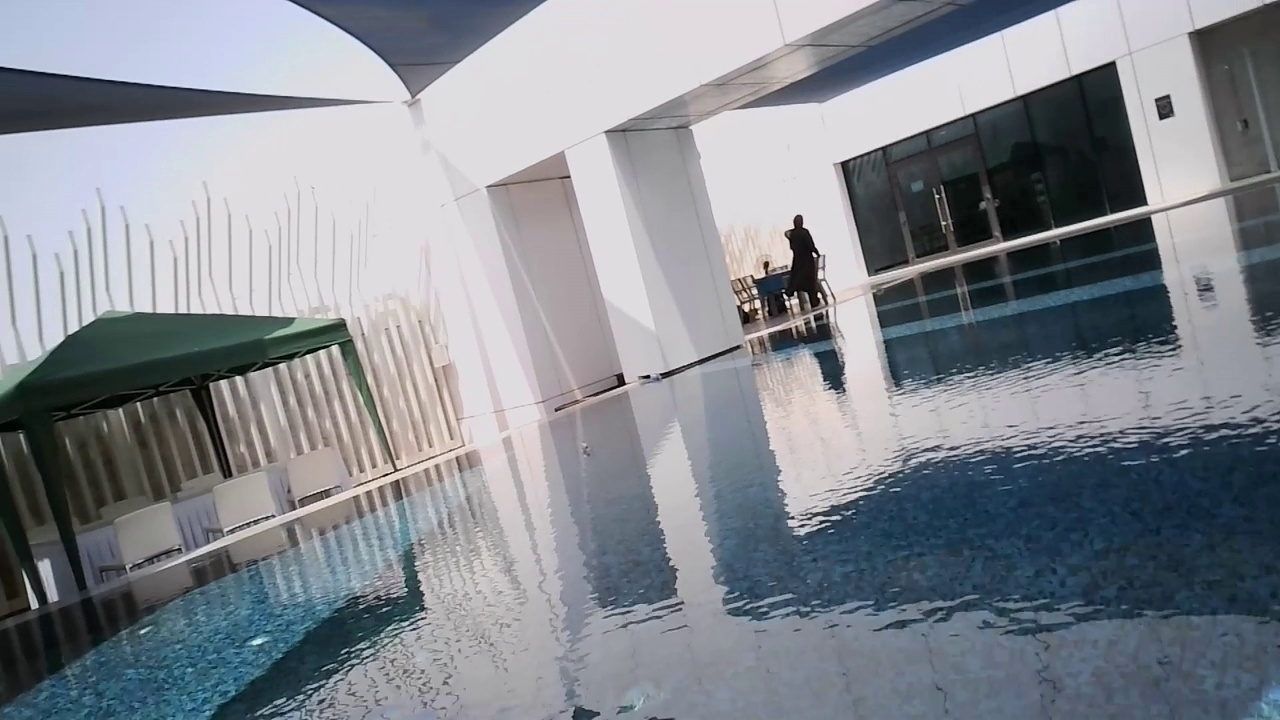debris: (576, 438, 595, 459), (643, 370, 662, 385), (1045, 236, 1062, 249), (871, 284, 884, 296)
